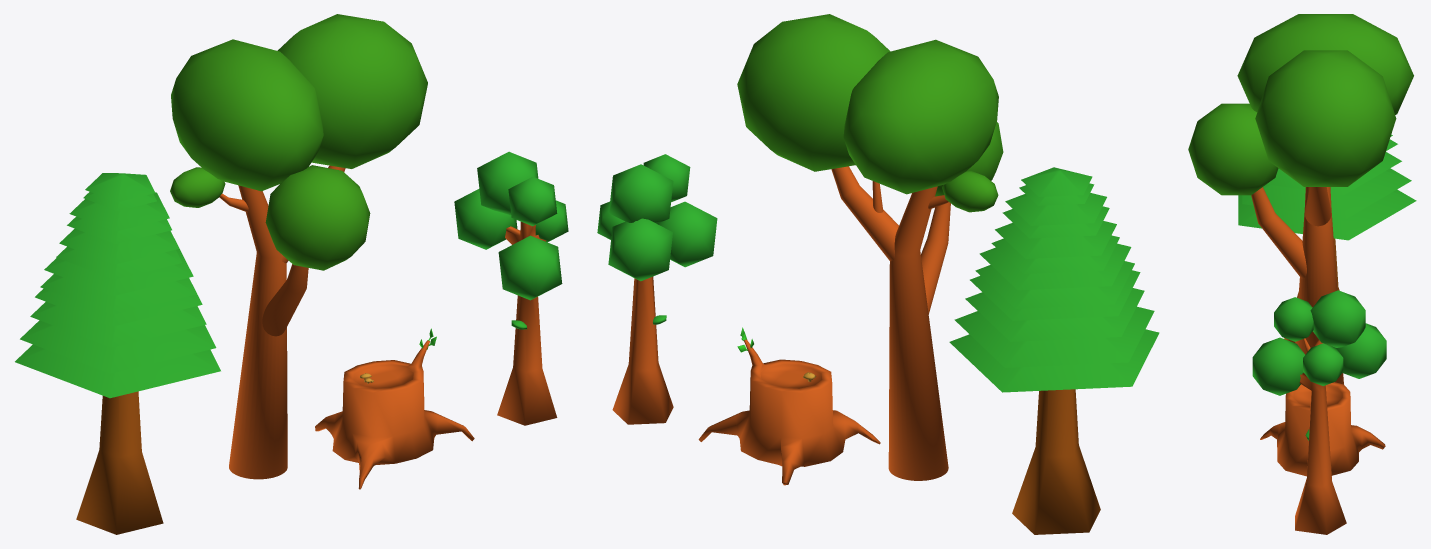
Rendered from pohon.fbx.
3 renders of one model, left to right at view 1: azimuth 30°, elevation 25°; view 2: azimuth 150°, elevation 25°; view 3: azimuth 270°, elevation 25°, orthographic. The views are drawn at different scales.
Parts seen in each view (by area): view 1: daun, Icosphere, Icosphere.001, Cylinder, Cube, Icosphere.002, pohon, pohon.001, Icosphere.005, Icosphere.006, Icosphere.004, Icosphere.007 (+2 smaller); view 2: daun, Icosphere, Cylinder, Icosphere.001, Cube, pohon, pohon.001, Icosphere.004, Icosphere.006, Icosphere.005, Icosphere.003, Icosphere.007 (+1 smaller); view 3: Icosphere.001, Icosphere, daun, Icosphere.002, Cylinder, Cube, pohon.001, Icosphere.006, Icosphere.005, Icosphere.004, Icosphere.007, Icosphere.008.
Part boxes in pixels (x1=…): daun: x1=15, y1=173, x2=220, y2=398; Icosphere: x1=171, y1=39, x2=323, y2=191; Icosphere.001: x1=277, y1=14, x2=427, y2=168; Cylinder: x1=219, y1=165, x2=345, y2=479; Cube: x1=315, y1=328, x2=474, y2=489; Icosphere.002: x1=265, y1=165, x2=370, y2=270; pohon: x1=76, y1=391, x2=163, y2=534; pohon.001: x1=497, y1=222, x2=557, y2=425; Icosphere.005: x1=498, y1=235, x2=562, y2=300; Icosphere.006: x1=477, y1=151, x2=538, y2=215; Icosphere.004: x1=454, y1=189, x2=517, y2=249; Icosphere.007: x1=508, y1=176, x2=557, y2=226; daun: x1=949, y1=167, x2=1159, y2=392; Icosphere: x1=843, y1=39, x2=998, y2=194; Cylinder: x1=831, y1=166, x2=950, y2=480; Icosphere.001: x1=737, y1=14, x2=890, y2=171; Cube: x1=698, y1=327, x2=880, y2=485; pohon: x1=1012, y1=389, x2=1100, y2=534; pohon.001: x1=612, y1=276, x2=673, y2=424; Icosphere.004: x1=608, y1=218, x2=672, y2=281; Icosphere.006: x1=609, y1=164, x2=673, y2=223; Icosphere.005: x1=657, y1=201, x2=717, y2=267; Icosphere.003: x1=942, y1=171, x2=998, y2=212; Icosphere.007: x1=643, y1=154, x2=690, y2=201; Icosphere.001: x1=1255, y1=50, x2=1396, y2=186; Icosphere: x1=1237, y1=14, x2=1413, y2=114; daun: x1=1238, y1=134, x2=1416, y2=240; Icosphere.002: x1=1188, y1=103, x2=1278, y2=195; Cylinder: x1=1251, y1=187, x2=1343, y2=384; Cube: x1=1260, y1=382, x2=1385, y2=476; pohon.001: x1=1295, y1=338, x2=1346, y2=534; Icosphere.006: x1=1310, y1=290, x2=1365, y2=347; Icosphere.005: x1=1252, y1=337, x2=1304, y2=395; Icosphere.004: x1=1336, y1=323, x2=1386, y2=378; Icosphere.007: x1=1274, y1=297, x2=1313, y2=341; Icosphere.008: x1=1303, y1=343, x2=1343, y2=385.
Bounding box in the file's own units: 904 × 719 × 370.
